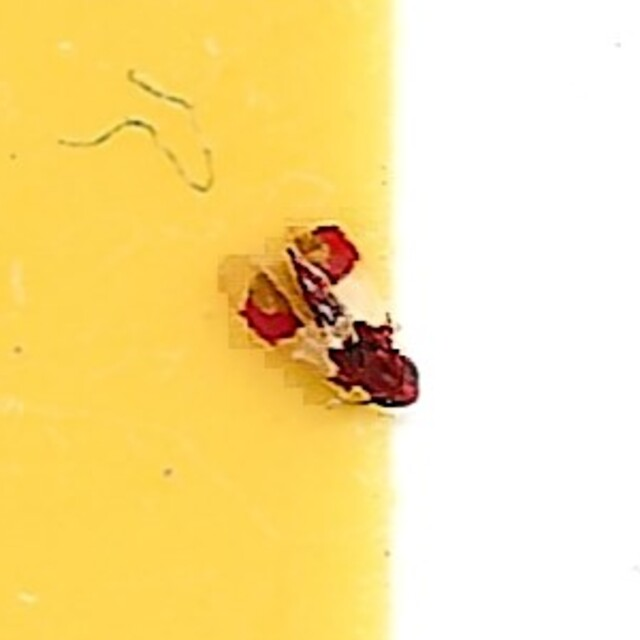Hemiptera: (213, 215, 427, 425)
